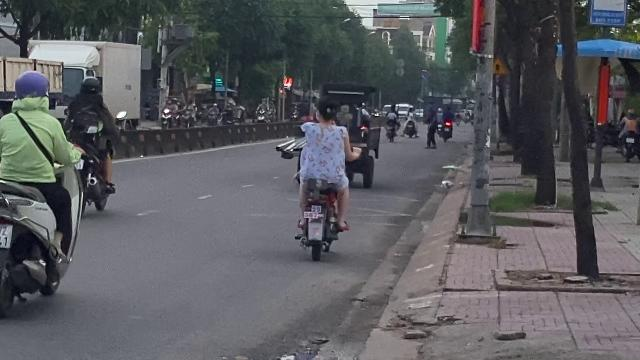helmet: (12, 70, 50, 109), (80, 75, 100, 93)
motorcyclist: (0, 66, 81, 318), (288, 93, 356, 260), (61, 75, 119, 217)
nohelmet: (310, 96, 338, 125)
